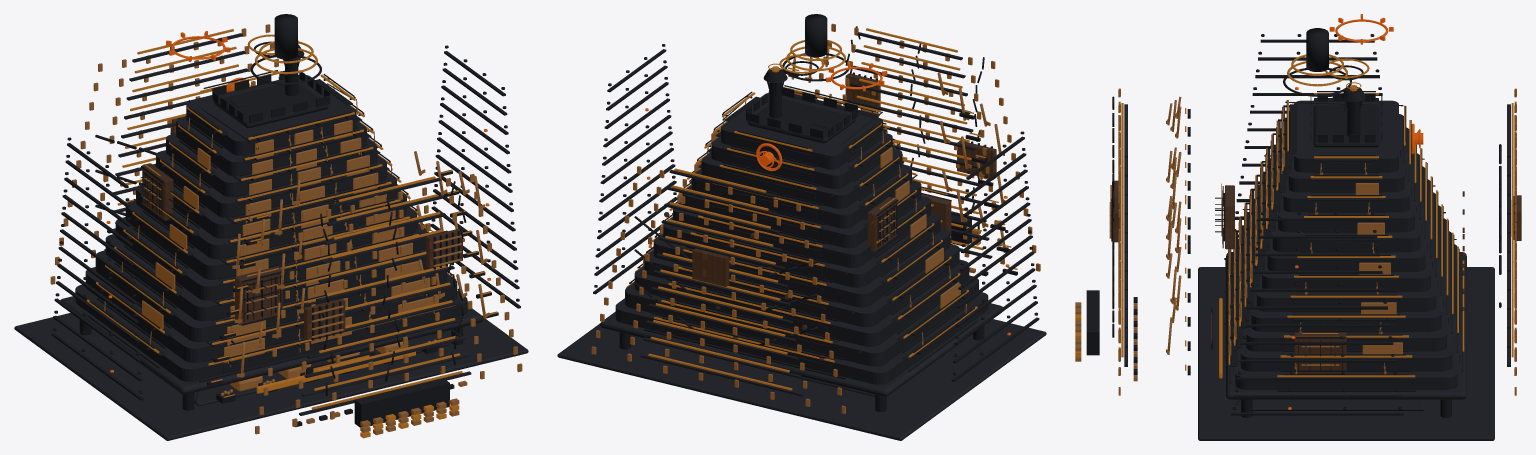
The model's file is nutrition-ext-hero.glb.
3 renders of one model, left to right at view 1: azimuth 30°, elevation 25°; view 2: azimuth 150°, elevation 25°; view 3: azimuth 270°, elevation 25°, orthographic. The views are drawn at different scales.
Visible parts, largest first — view 1: nutrition_s86_base_hero_mesh, nutrition_s86_detail_hero_mesh, nutrition_s86_accent_hero_mesh, nutrition_s86_emissive_hero_mesh, nutrition_s86_glass_hero_mesh, nutrition_s86_energy_hero_mesh; view 2: nutrition_s86_base_hero_mesh, nutrition_s86_detail_hero_mesh, nutrition_s86_emissive_hero_mesh, nutrition_s86_accent_hero_mesh, nutrition_s86_glass_hero_mesh, nutrition_s86_energy_hero_mesh; view 3: nutrition_s86_base_hero_mesh, nutrition_s86_detail_hero_mesh, nutrition_s86_emissive_hero_mesh, nutrition_s86_accent_hero_mesh, nutrition_s86_glass_hero_mesh, nutrition_s86_energy_hero_mesh.
Part boxes in pixels (x1,y1,x2,y2): nutrition_s86_base_hero_mesh: (14, 33, 528, 440); nutrition_s86_detail_hero_mesh: (51, 14, 520, 427); nutrition_s86_accent_hero_mesh: (50, 24, 522, 435); nutrition_s86_emissive_hero_mesh: (86, 29, 497, 438); nutrition_s86_glass_hero_mesh: (142, 116, 462, 339); nutrition_s86_energy_hero_mesh: (106, 31, 490, 372); nutrition_s86_base_hero_mesh: (557, 32, 1046, 440); nutrition_s86_detail_hero_mesh: (593, 14, 1039, 411); nutrition_s86_emissive_hero_mesh: (626, 28, 1017, 390); nutrition_s86_accent_hero_mesh: (591, 23, 1040, 413); nutrition_s86_glass_hero_mesh: (664, 73, 996, 360); nutrition_s86_energy_hero_mesh: (645, 62, 1010, 335); nutrition_s86_base_hero_mesh: (1124, 100, 1510, 440); nutrition_s86_detail_hero_mesh: (1086, 28, 1514, 417); nutrition_s86_emissive_hero_mesh: (1075, 54, 1513, 378); nutrition_s86_accent_hero_mesh: (1075, 88, 1516, 395); nutrition_s86_glass_hero_mesh: (1113, 180, 1521, 374); nutrition_s86_energy_hero_mesh: (1288, 14, 1423, 409).
Bounding box in the file's own units: 11.75 × 9.85 × 12.32.
